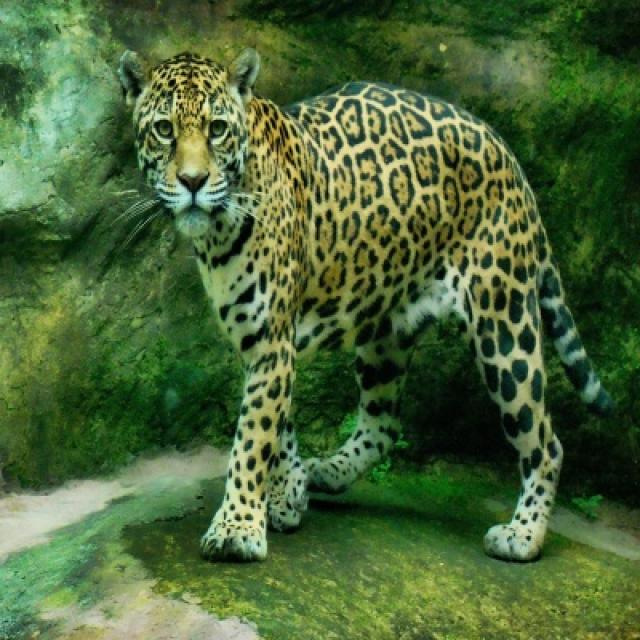Jaguar: (118, 50, 614, 568)
